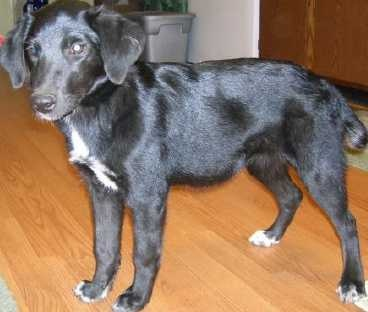dog: (1, 0, 368, 277)
